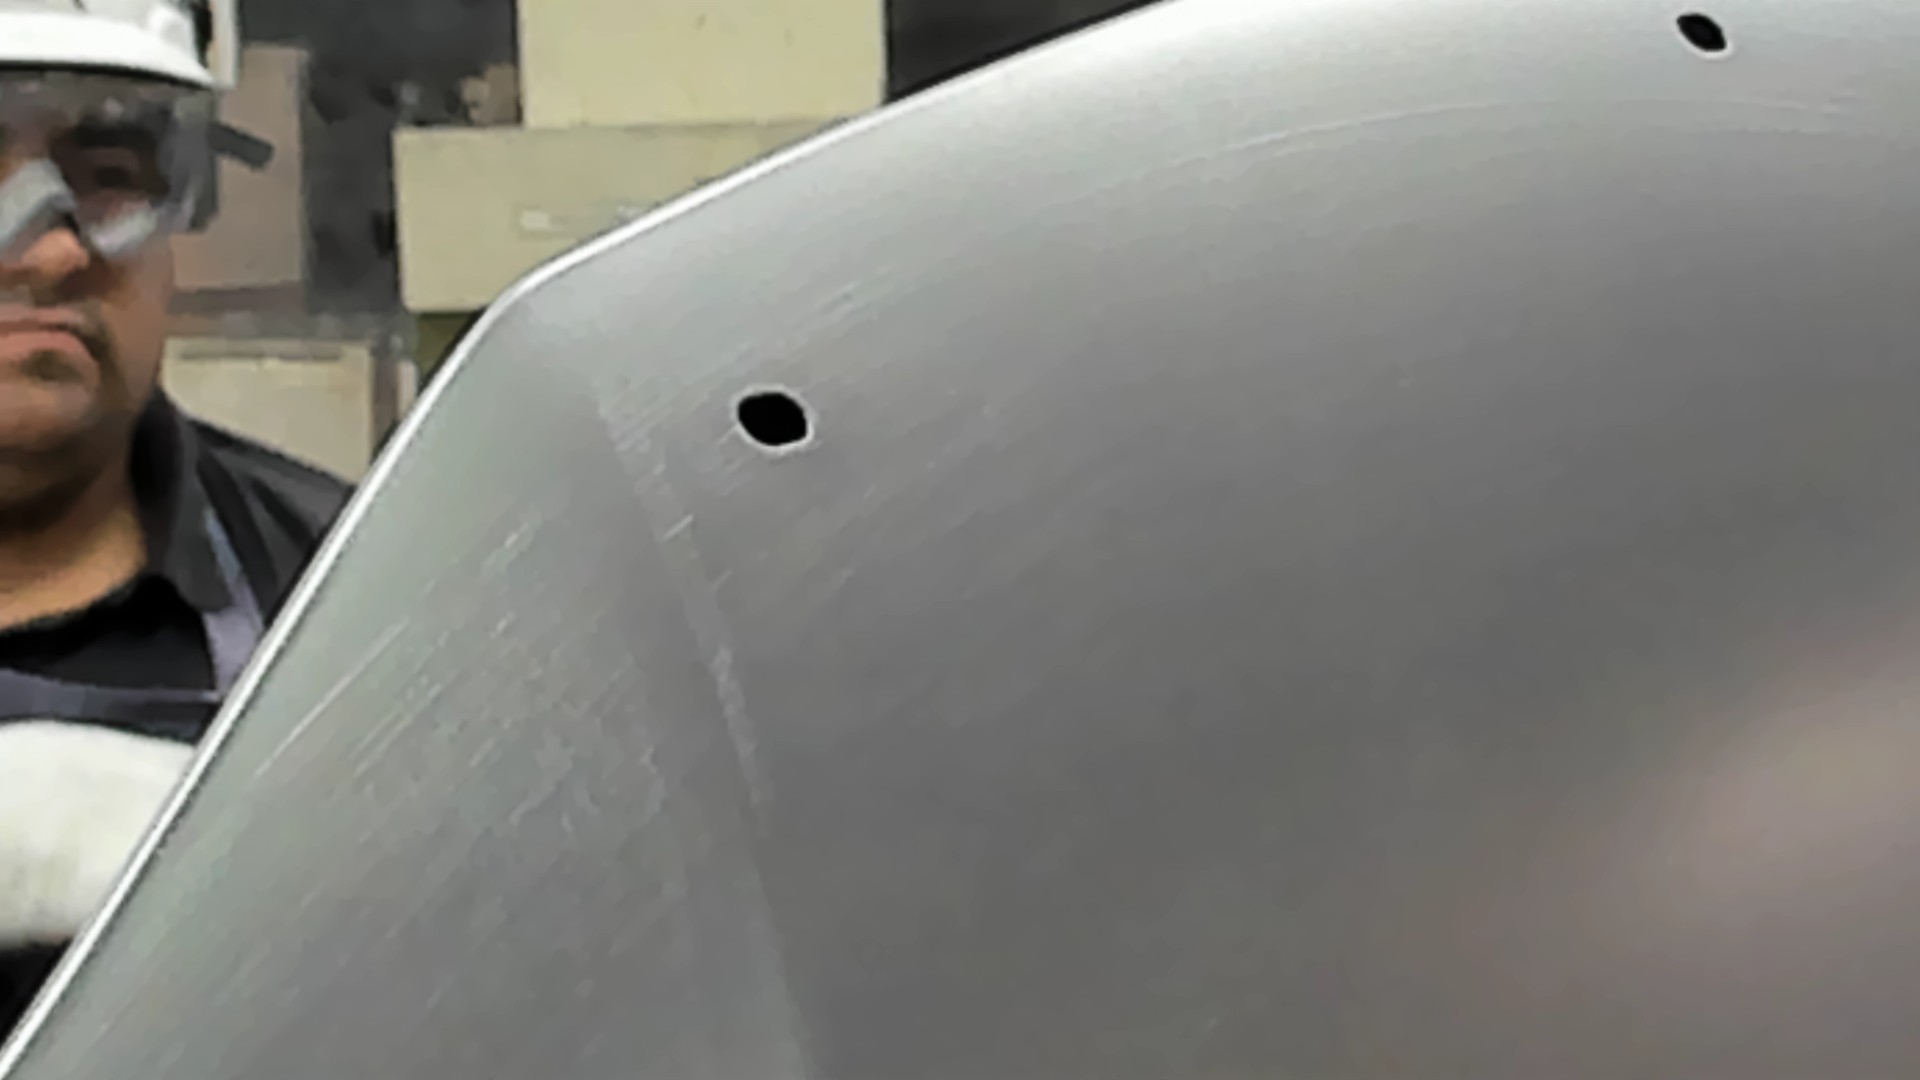amorfo: (731, 381, 815, 450), (1665, 4, 1731, 61)
capo: (906, 133, 1920, 1080)
